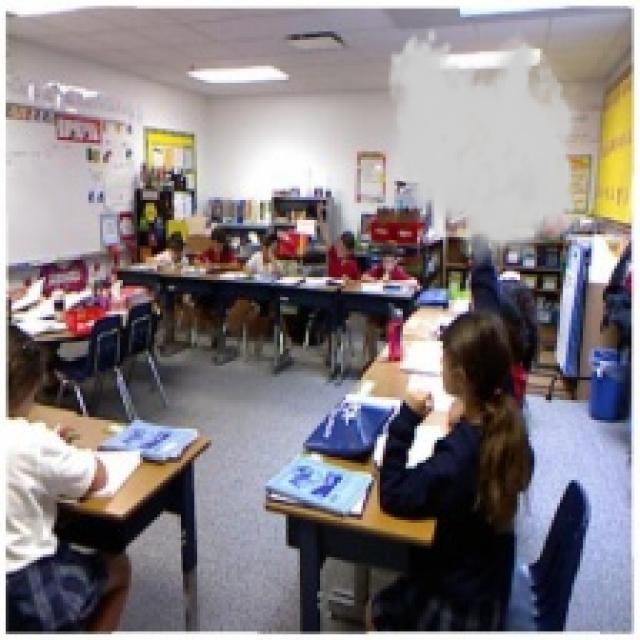Smoke: (386, 26, 588, 274)
